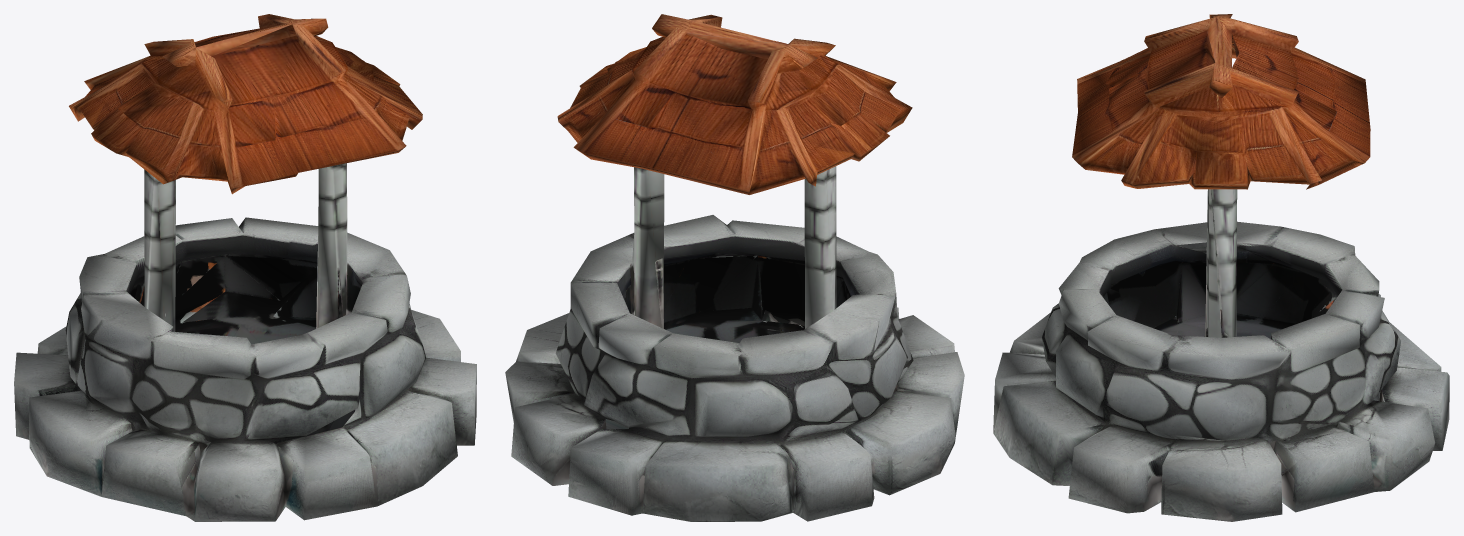
File: town-well.glb
3 renders of one model, left to right at view 1: azimuth 30°, elevation 25°; view 2: azimuth 150°, elevation 25°; view 3: azimuth 270°, elevation 25°, orthographic. The views are drawn at different scales.
Parts seen in each view (by area): view 1: Mesh_0; view 2: Mesh_0; view 3: Mesh_0.
Boxes of the visible parts, x1,y1,x2,y2 form: Mesh_0: [14, 14, 476, 521]; Mesh_0: [505, 14, 964, 521]; Mesh_0: [993, 14, 1449, 521].
Bounding box in the file's own units: 1.6 × 1.5 × 1.6.
1 material, 1 textured.
